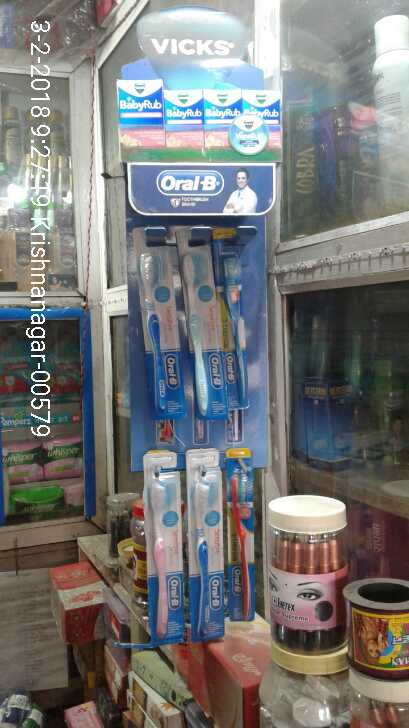pharmacy: (113, 78, 284, 150), (137, 250, 183, 408), (180, 244, 224, 409), (189, 480, 229, 642), (225, 239, 257, 415), (146, 475, 179, 636), (227, 462, 257, 623), (5, 441, 52, 488), (47, 434, 86, 482)
